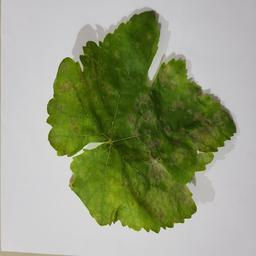Powdery-Mildew: (129, 95, 167, 177), (98, 176, 145, 226), (55, 68, 88, 135), (70, 151, 105, 206), (150, 182, 194, 223), (193, 111, 219, 152), (156, 65, 191, 94), (171, 145, 190, 169)
